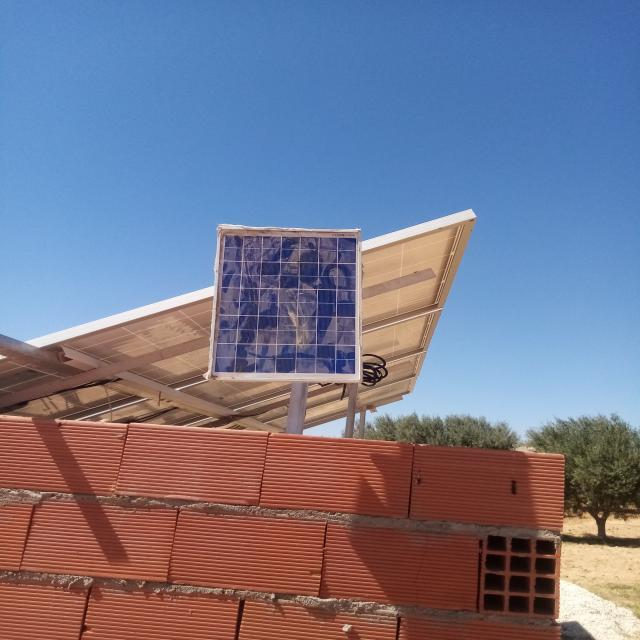faulty: (210, 227, 361, 381)
